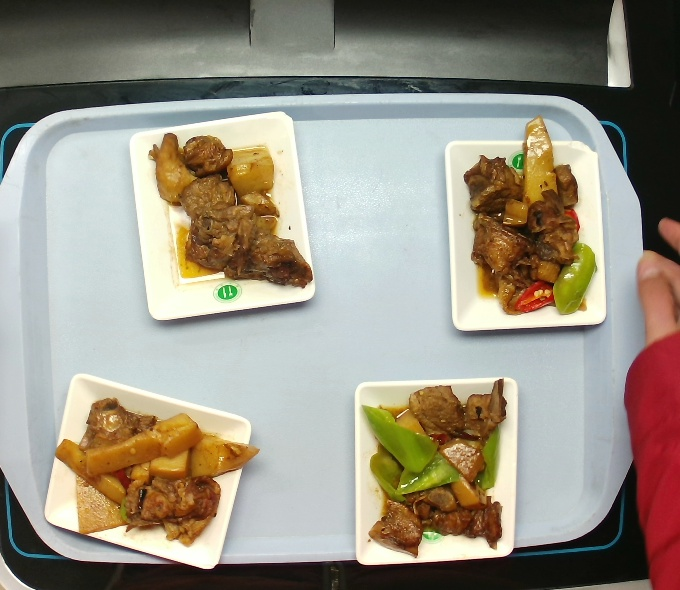wcq-YaRouSunKuai: (453, 109, 606, 329), (139, 129, 318, 290), (362, 370, 512, 560), (57, 396, 247, 539)
